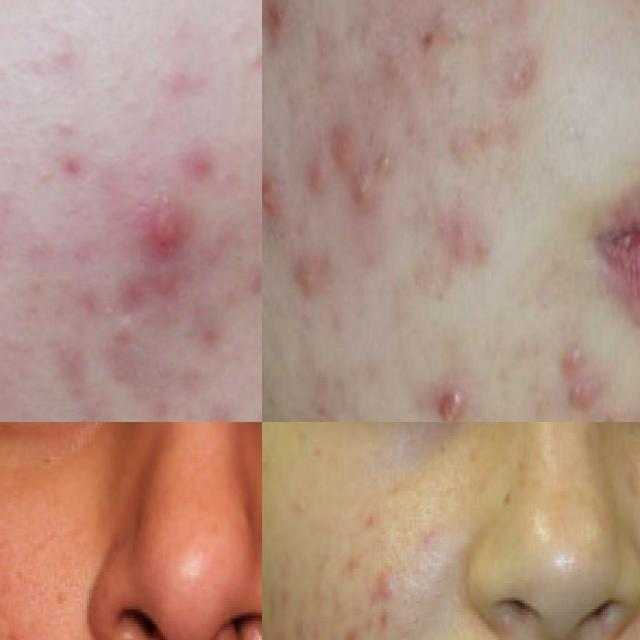comedone: (234, 38, 262, 114)
papule: (130, 189, 203, 263), (262, 0, 296, 78), (319, 112, 360, 167), (566, 368, 601, 422)
pustule: (421, 362, 484, 422), (262, 170, 293, 227), (350, 162, 378, 212), (375, 141, 397, 182)
